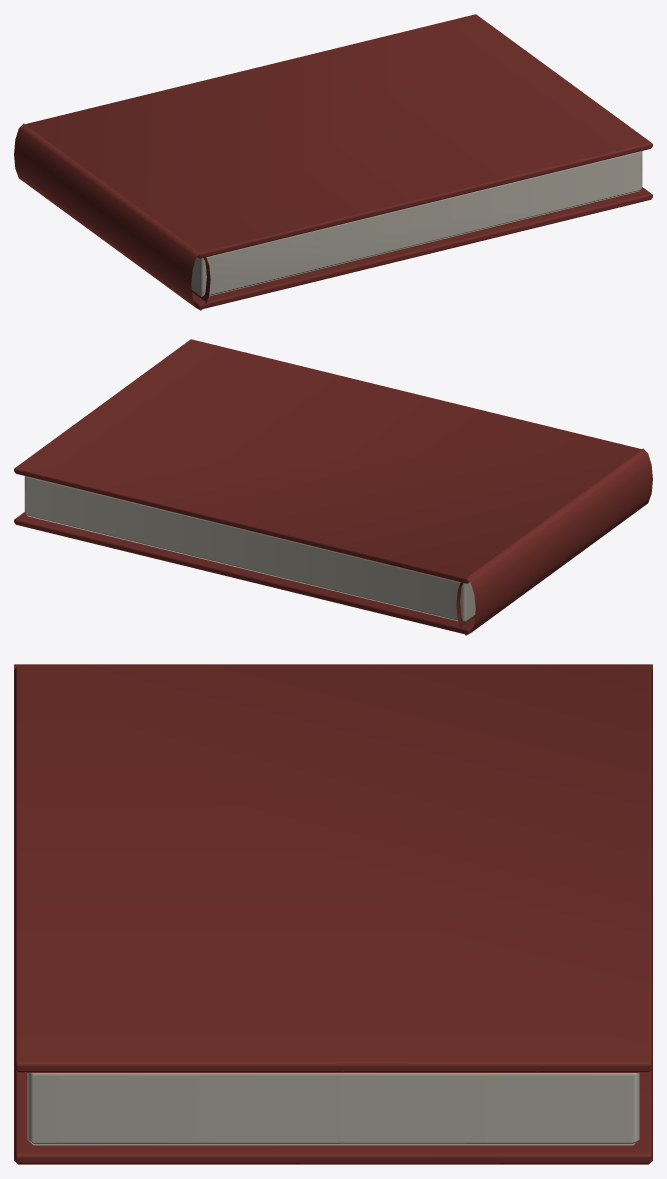
The model's file is ix_book_b.gltf.
3 renders of one model, top to bottom at view 1: azimuth 30°, elevation 25°; view 2: azimuth 150°, elevation 25°; view 3: azimuth 270°, elevation 25°, orthographic. The views are drawn at different scales.
Visible parts, largest first — view 1: IX_BookB_Board1, IX_BookB_Pages, IX_BookB_Spine, IX_BookB_Board0; view 2: IX_BookB_Board1, IX_BookB_Pages, IX_BookB_Spine, IX_BookB_Board0; view 3: IX_BookB_Board1, IX_BookB_Pages, IX_BookB_Board0.
Boxes of the visible parts, left/top/right/bottom form: IX_BookB_Board1: left=25, top=14, right=652, bottom=258; IX_BookB_Pages: left=191, top=151, right=642, bottom=296; IX_BookB_Spine: left=14, top=123, right=210, bottom=310; IX_BookB_Board0: left=192, top=187, right=652, bottom=309; IX_BookB_Board1: left=14, top=339, right=641, bottom=583; IX_BookB_Pages: left=24, top=476, right=475, bottom=621; IX_BookB_Spine: left=456, top=448, right=652, bottom=635; IX_BookB_Board0: left=14, top=512, right=474, bottom=634; IX_BookB_Board1: left=14, top=664, right=652, bottom=1072; IX_BookB_Pages: left=27, top=1073, right=639, bottom=1145; IX_BookB_Board0: left=14, top=1069, right=652, bottom=1164.
Size of the model in its own units: 0.2186 by 0.026 by 0.145.
